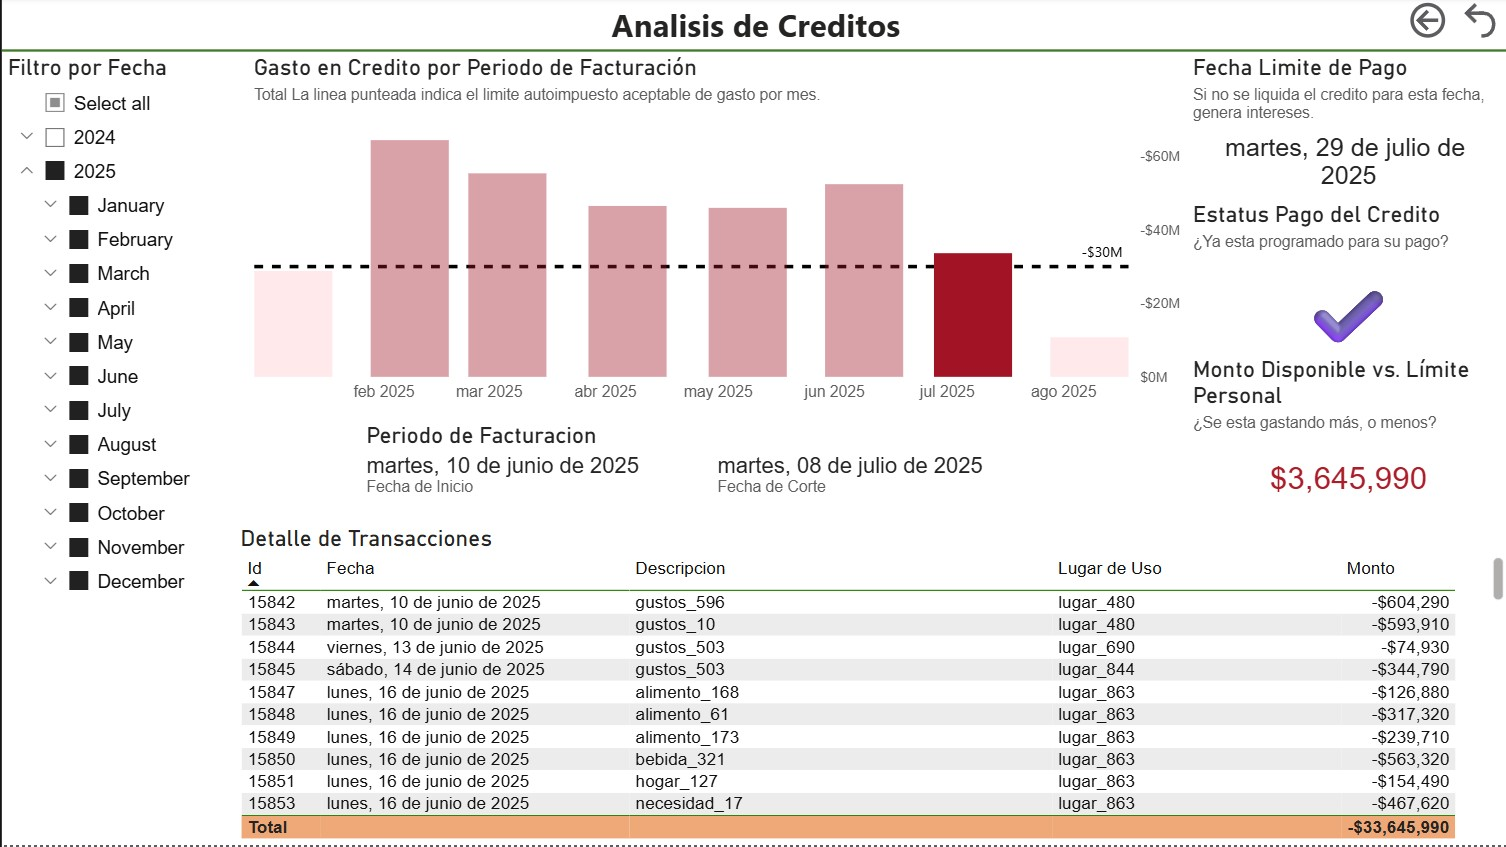

The dashboard page shown, as its layout file describes it:
{"tool":"powerbi","page":{"name":"Reporte Creditos","canvas":[1280,720],"ordinal":3},"visuals":[{"type":"textbox","box":[259.8,0,760.4,48.1],"z":0,"group":"g1"},{"type":"slicer","title":"Filtro por Periodo","fields":{"Values":["creditos.fecha_corte.Variation.Date Hierarchy.Year","creditos.fecha_corte.Variation.Date Hierarchy.Month","creditos.fecha_corte.Variation.Date Hierarchy.Day"]},"box":[0,48.4,197.3,671],"z":0},{"type":"group","id":"g1","title":"Title & Line","box":[0,0,1280,57.4],"z":1000},{"type":"shape","box":[0,32.8,1280,24.6],"z":1000,"group":"g1"},{"type":"tableEx","title":"Detalle de Transacciones","fields":{"Values":["c_diaria.id","c_diaria.fecha","c_diaria.descripcion","c_diaria.lugar_de_uso","Sum(c_diaria.monto)"]},"box":[197.3,448.2,1082.2,271.2],"z":2000},{"type":"actionButton","box":[1235,0,44.6,39.5],"z":3000},{"type":"actionButton","box":[1190.5,0,44.6,39.5],"z":4000},{"type":"clusteredColumnChart","title":"Gasto en Credito por Periodo de Facturación","fields":{"Y":["DAX Measures.Monto Asociado"],"Category":["creditos.fecha_corte"]},"box":[208.8,48.4,797,303],"z":5000},{"type":"card","title":"Fecha Limite de Pago","fields":{"Values":["Max(creditos.fecha_limite_pago)"]},"box":[1005.8,48.4,273.7,124.8],"z":6000},{"type":"multiRowCard","title":"Periodo de Facturacion","fields":{"Values":["creditos.fecha_inicio","creditos.fecha_corte"]},"box":[304.3,360.3,606.1,77.7],"z":7000},{"type":"card","title":"Estatus Pago del Credito","fields":{"Values":["Max(creditos.simbolo_listo_para_pago)"]},"box":[1005.8,173.2,273.7,131.1],"z":8000},{"type":"card","title":"Monto Disponible vs. Límite Personal","fields":{"Values":["DAX.Disponible antes del Limite"]},"box":[1005.8,304.3,273.7,143.9],"z":9000}]}

Visuals, with their boxes in screenshot pixels (x1, y1, x2, y2), scaled from the page's 1280x720 canvas onto the 1506x847 screenshot:
textbox: bbox=(306, 0, 1200, 57)
"Filtro por Periodo" slicer: bbox=(0, 57, 232, 846)
"Title & Line" group: bbox=(0, 0, 1505, 68)
shape: bbox=(0, 39, 1505, 68)
"Detalle de Transacciones" tableEx: bbox=(232, 527, 1505, 846)
actionButton: bbox=(1453, 0, 1505, 46)
actionButton: bbox=(1401, 0, 1453, 46)
"Gasto en Credito por Periodo de Facturación" clusteredColumnChart: bbox=(246, 57, 1183, 413)
"Fecha Limite de Pago" card: bbox=(1183, 57, 1505, 204)
"Periodo de Facturacion" multiRowCard: bbox=(358, 424, 1071, 515)
"Estatus Pago del Credito" card: bbox=(1183, 204, 1505, 358)
"Monto Disponible vs. Límite Personal" card: bbox=(1183, 358, 1505, 527)
